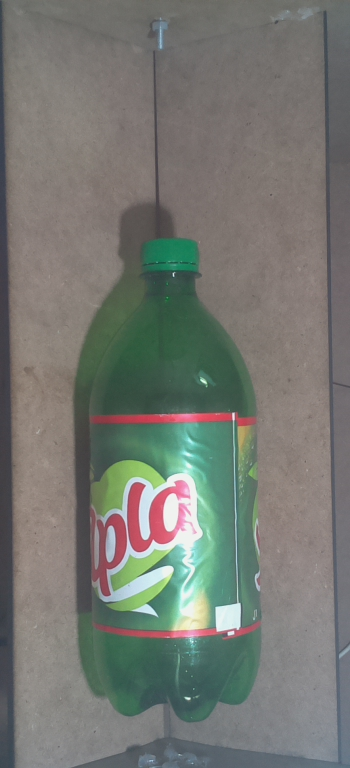Bouteille_1L: (79, 234, 272, 729)
